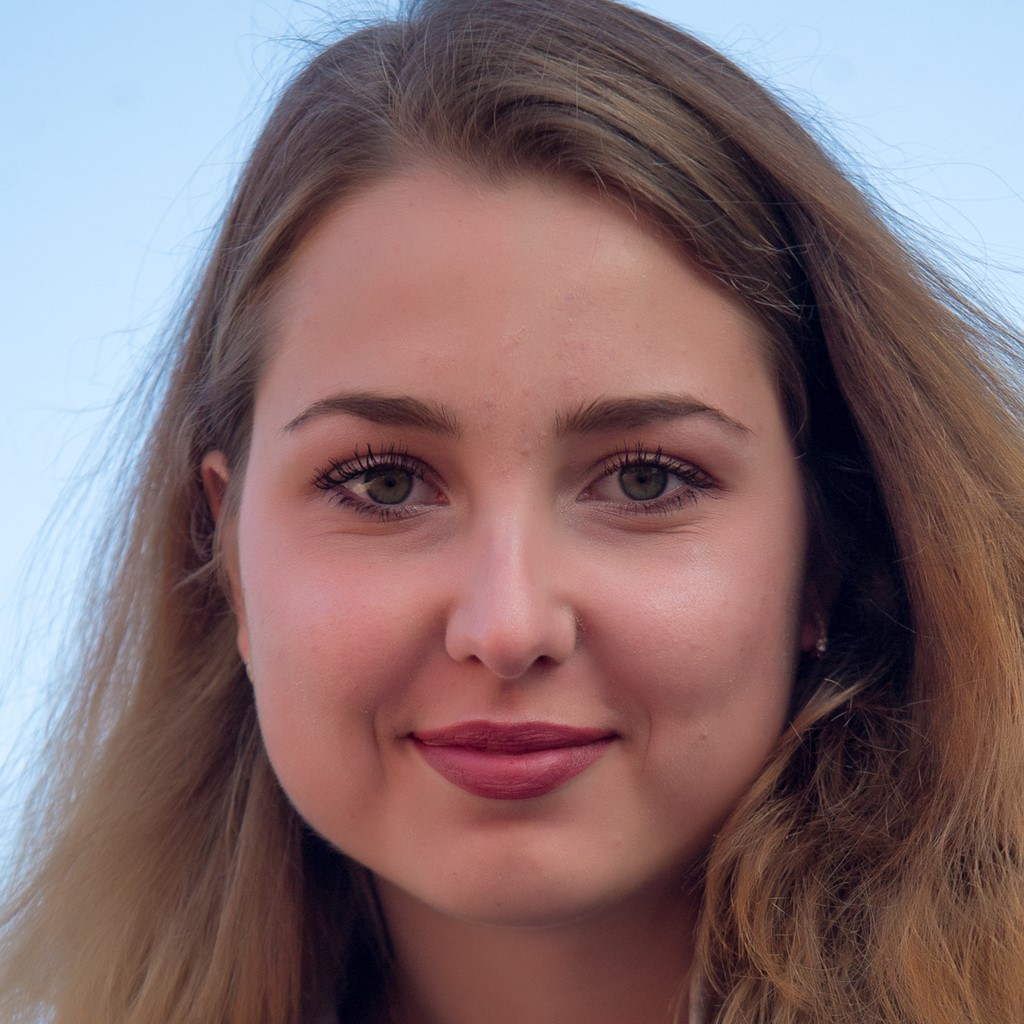sin_mascara: (235, 121, 820, 916)
